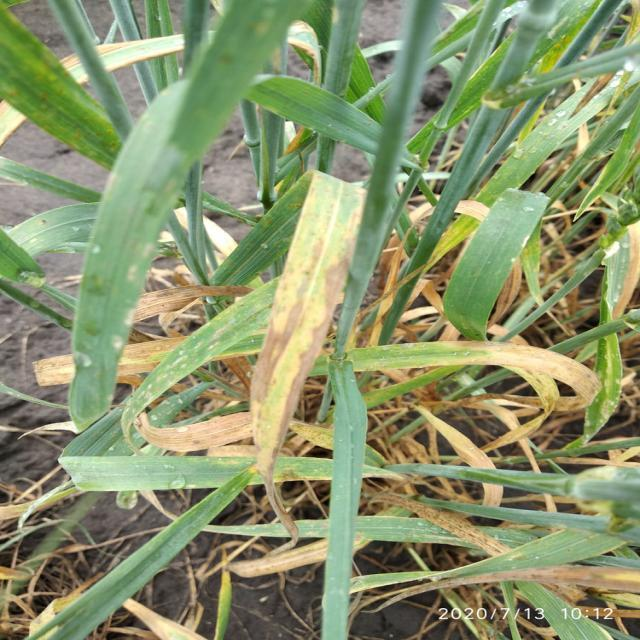Septoria: (249, 170, 365, 539), (346, 341, 601, 410)
